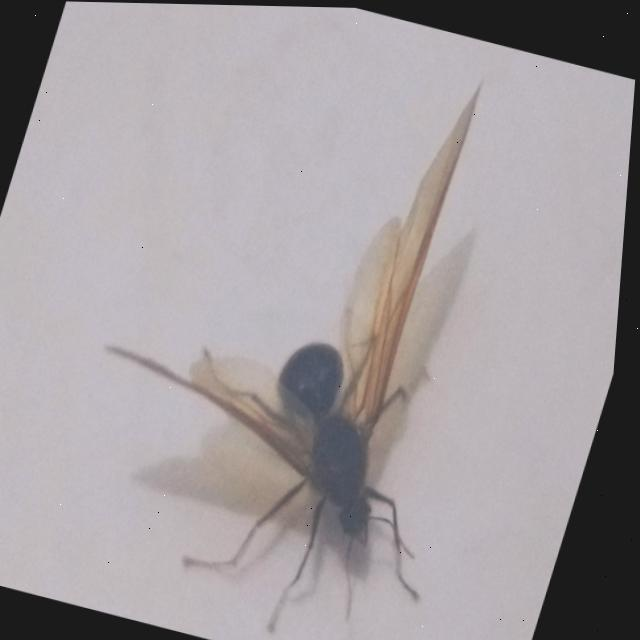Alive-Male-Alate: (39, 5, 577, 640)
